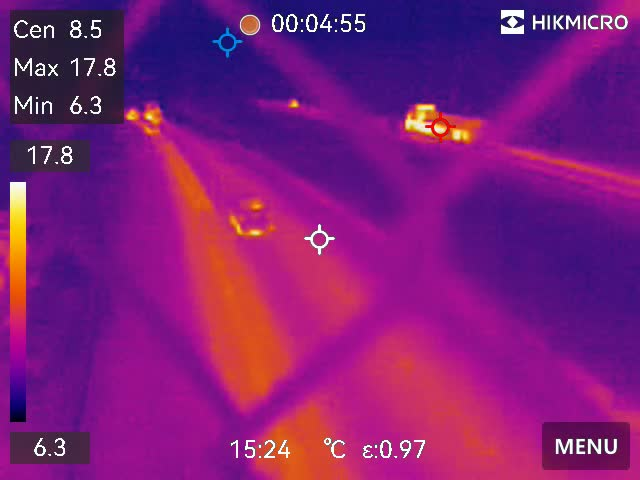heavyTruck: (401, 98, 488, 145)
